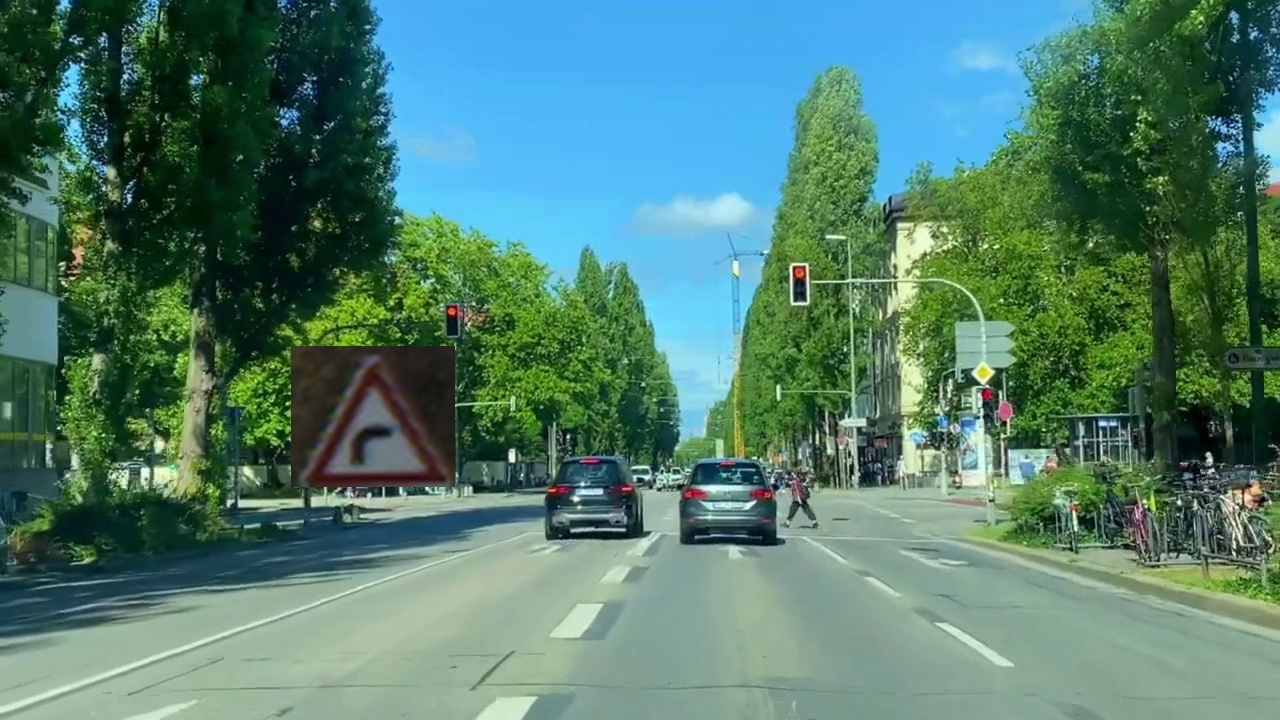Curve right: (291, 346, 455, 487)
